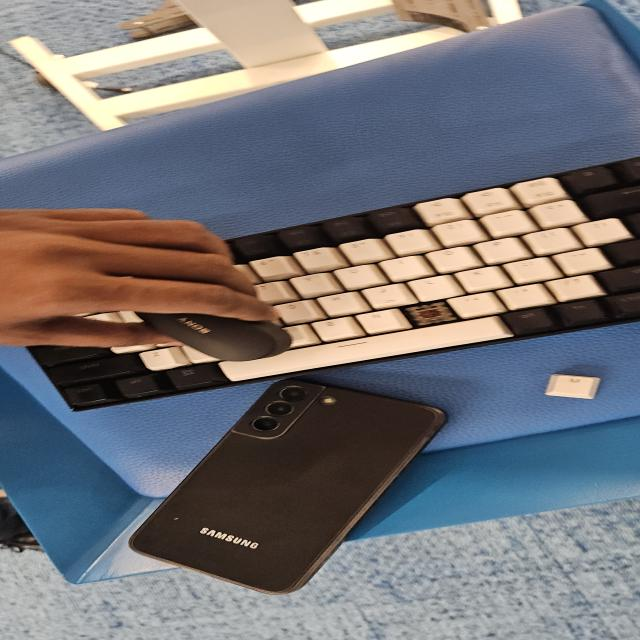C: (407, 308, 454, 322), (408, 306, 443, 323), (416, 305, 450, 322), (409, 306, 449, 320), (411, 304, 443, 320), (406, 306, 442, 320), (411, 310, 443, 325)
